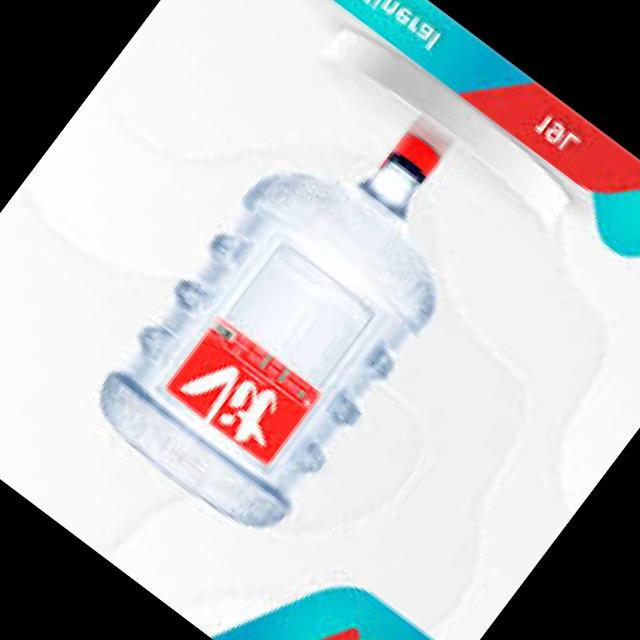Galon: (73, 59, 550, 566)
